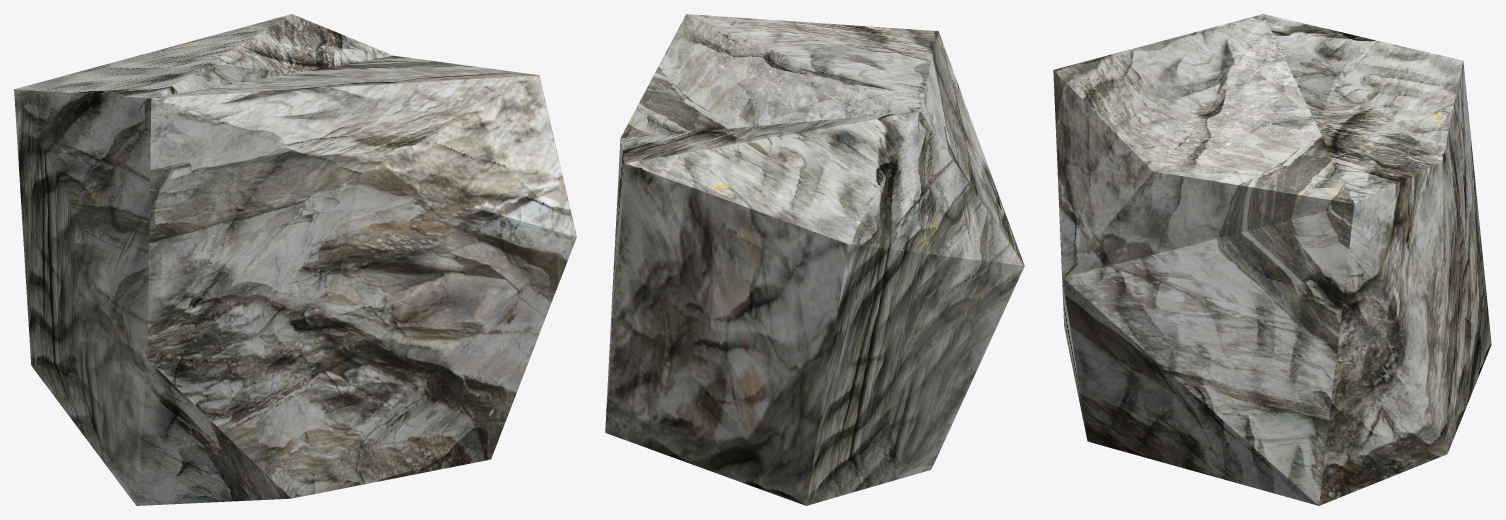
Rendered from rockwall-c.fbx.
3 views of the same model, side by side, from view 1: azimuth 30°, elevation 25°; view 2: azimuth 150°, elevation 25°; view 3: azimuth 270°, elevation 25° (orthographic). The views are drawn at different scales.
Visible parts, largest first — view 1: Cube.001; view 2: Cube.001; view 3: Cube.001.
Boxes of the visible parts, x1=… form: Cube.001: x1=14, y1=14, x2=576, y2=505; Cube.001: x1=605, y1=14, x2=1024, y2=505; Cube.001: x1=1053, y1=14, x2=1491, y2=505.
Size of the model in its own units: 179 by 178 by 191.
